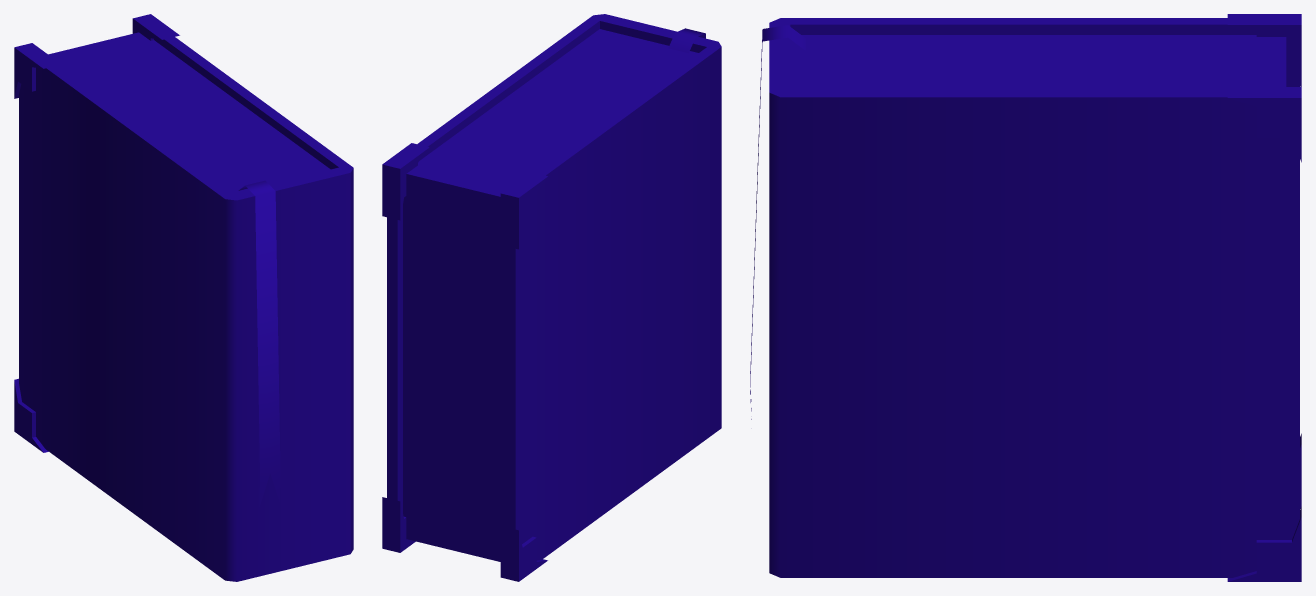
File: CG_Model_TownInt_Book3_Mar24_ChrisMcknight.FBX
3 renders of one model, left to right at view 1: azimuth 30°, elevation 25°; view 2: azimuth 150°, elevation 25°; view 3: azimuth 270°, elevation 25°, orthographic. The views are drawn at different scales.
Visible parts, largest first — view 1: Book3; view 2: Book3; view 3: Book3.
Part boxes in pixels (box(x1,y1,x2,y2)): Book3: box(14, 14, 353, 581); Book3: box(382, 14, 721, 581); Book3: box(750, 14, 1301, 581).
Size of the model in its own units: 1.68 by 4.57 by 4.66.
